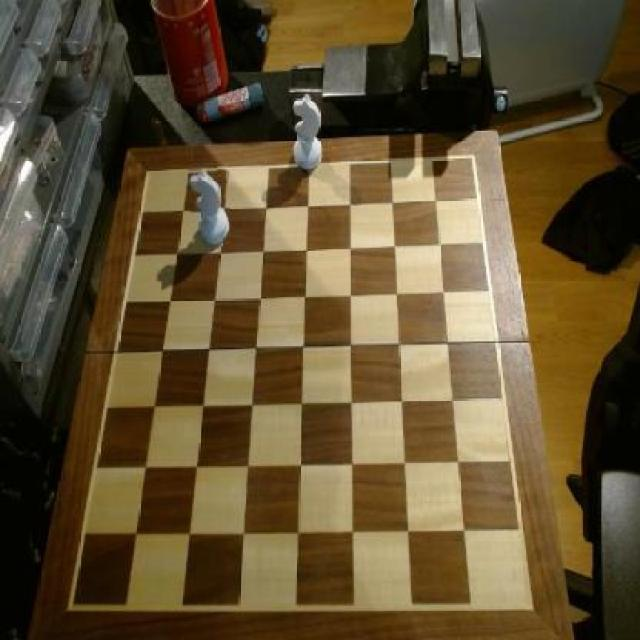white-king: (189, 168, 232, 249), (291, 94, 326, 174)
